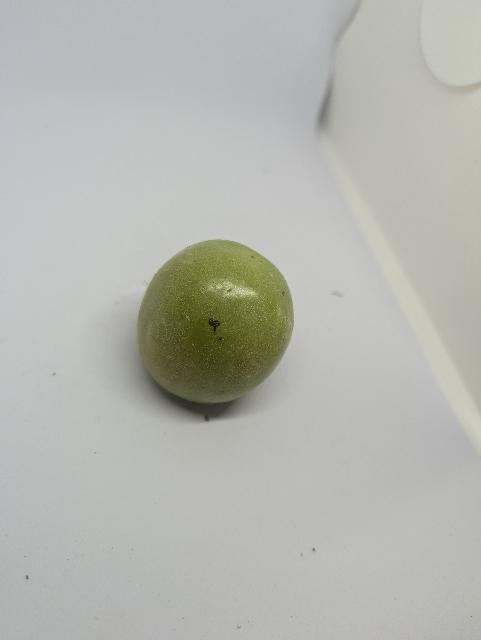green: (131, 233, 299, 418)
